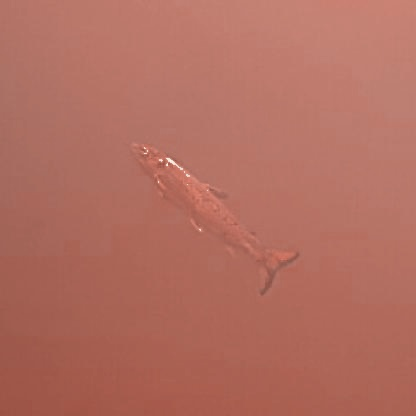salmon: (121, 133, 302, 294)
